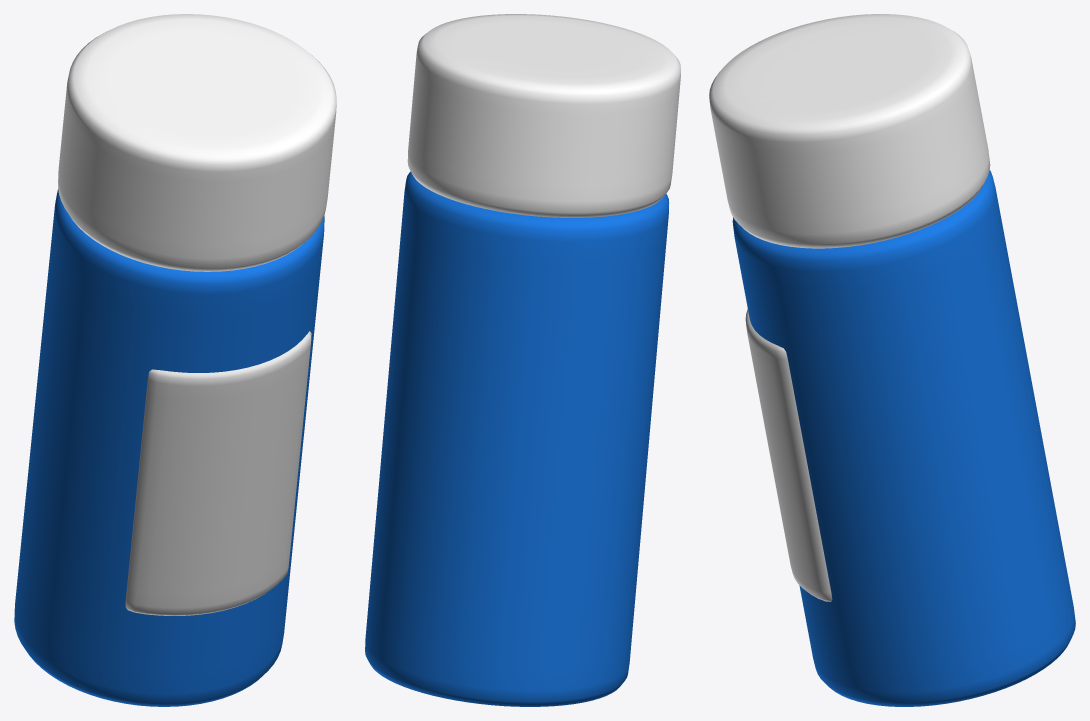
File: toner-bottle-3d-animated-icon-1391962231665.glb
3 renders of one model, left to right at view 1: azimuth 30°, elevation 25°; view 2: azimuth 150°, elevation 25°; view 3: azimuth 270°, elevation 25°, orthographic. The views are drawn at different scales.
Parts seen in each view (by area): view 1: Cylinder.056, Cylinder.093, Cylinder.094; view 2: Cylinder.056, Cylinder.093; view 3: Cylinder.056, Cylinder.093, Cylinder.094.
Part boxes in pixels (<box>): Cylinder.056: <box>14,189,324,706</box>; Cylinder.093: <box>58,14,336,271</box>; Cylinder.094: <box>125,331,311,615</box>; Cylinder.056: <box>365,171,669,706</box>; Cylinder.093: <box>407,14,680,217</box>; Cylinder.056: <box>732,170,1075,706</box>; Cylinder.093: <box>709,14,990,248</box>; Cylinder.094: <box>745,309,832,601</box>.
Size of the model in its own units: 1.53 by 3.92 by 2.11.
